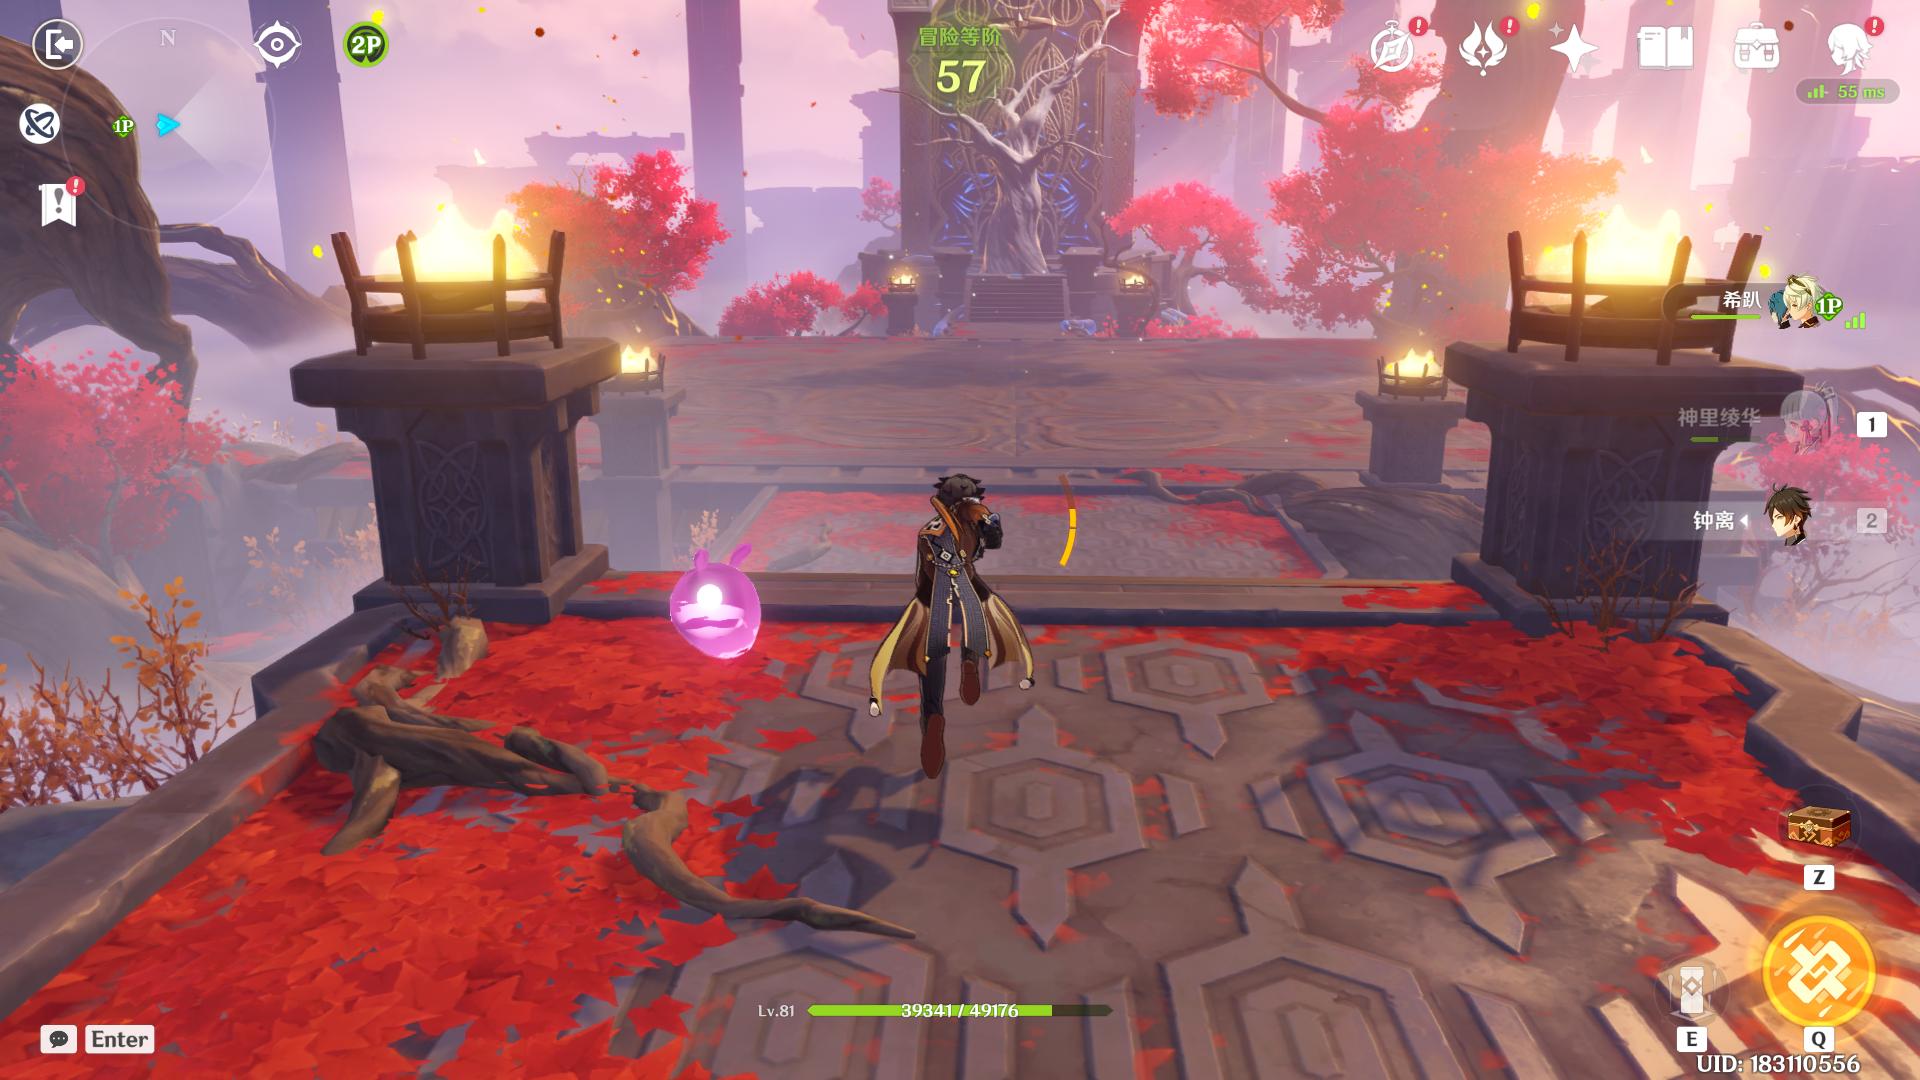character: (841, 442, 1079, 803)
